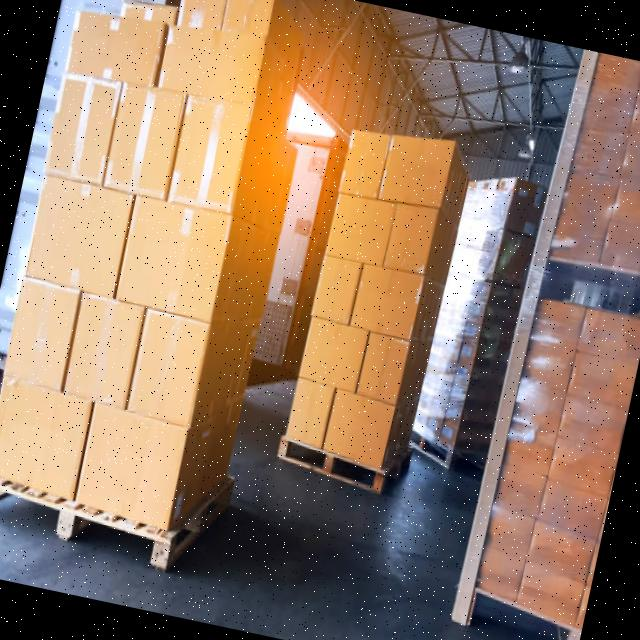Wooden-Pallets: (0, 472, 235, 579), (272, 431, 387, 497)
